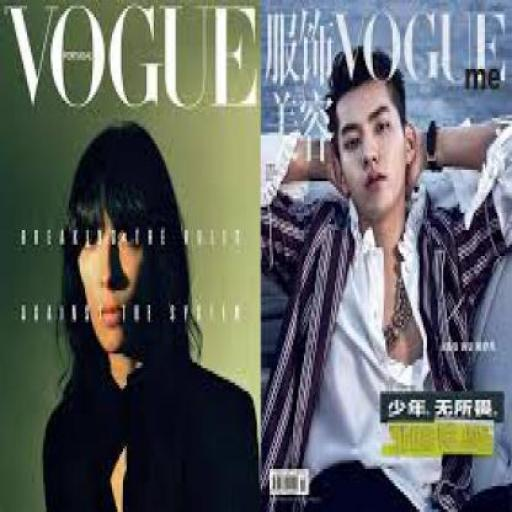paper: (0, 0, 258, 509), (257, 0, 510, 510)
